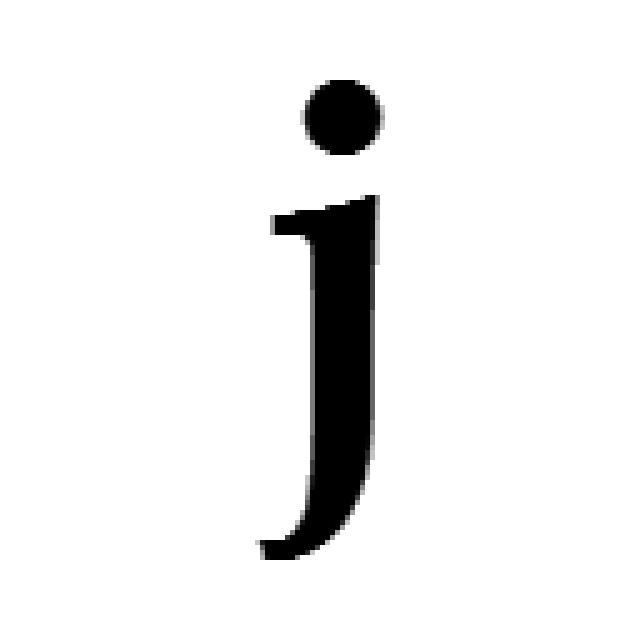J: (245, 70, 390, 565)
